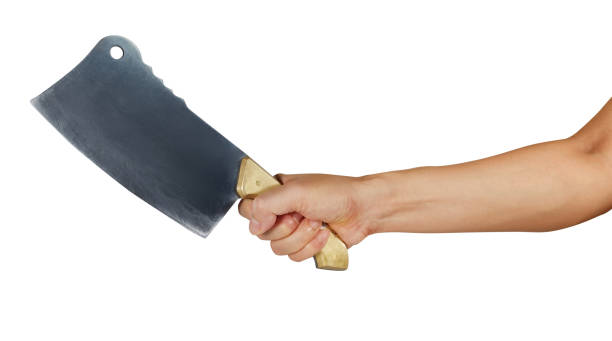knife: (32, 33, 349, 272)
